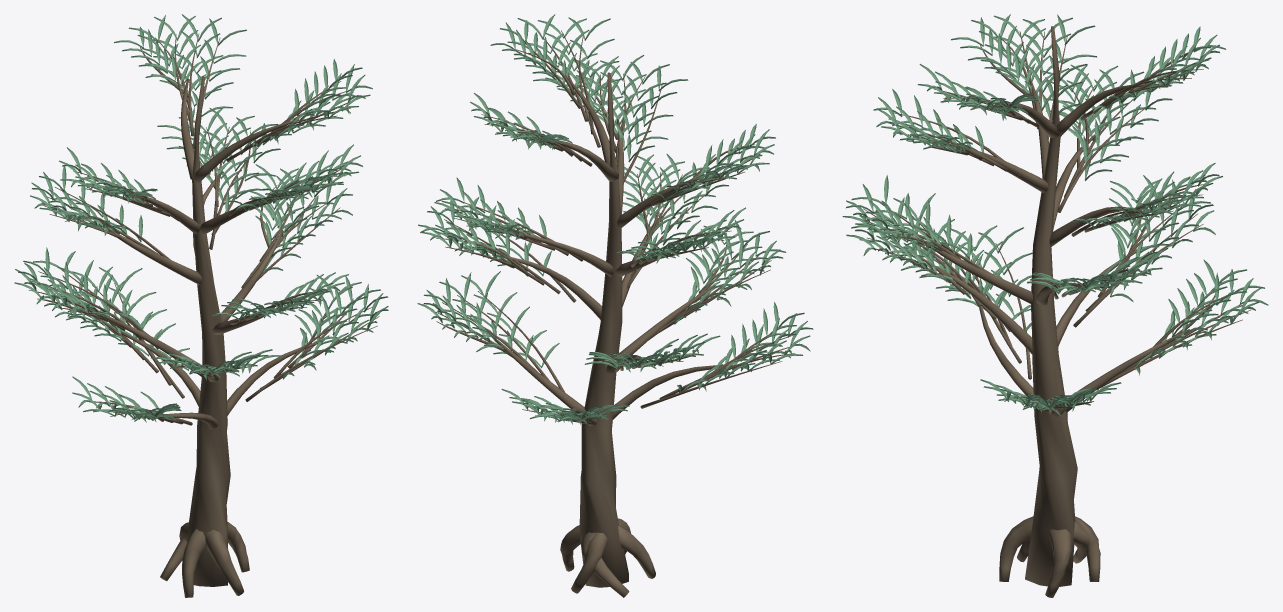
The model's file is pine.glb.
3 renders of one model, left to right at view 1: azimuth 30°, elevation 25°; view 2: azimuth 150°, elevation 25°; view 3: azimuth 270°, elevation 25°, orthographic. The views are drawn at different scales.
Parts seen in each view (by area): view 1: GEO-pine individual veined leaves, GEO-pine branching bark; view 2: GEO-pine individual veined leaves, GEO-pine branching bark; view 3: GEO-pine branching bark, GEO-pine individual veined leaves.
Boxes of the visible parts, x1=… form: GEO-pine individual veined leaves: x1=14, y1=14, x2=388, y2=422; GEO-pine branching bark: x1=29, y1=34, x2=379, y2=597; GEO-pine individual veined leaves: x1=417, y1=14, x2=813, y2=424; GEO-pine branching bark: x1=436, y1=30, x2=799, y2=597; GEO-pine branching bark: x1=863, y1=26, x2=1250, y2=597; GEO-pine individual veined leaves: x1=842, y1=14, x2=1268, y2=415.
Size of the model in its own units: 4.1 by 5.84 by 4.09.
